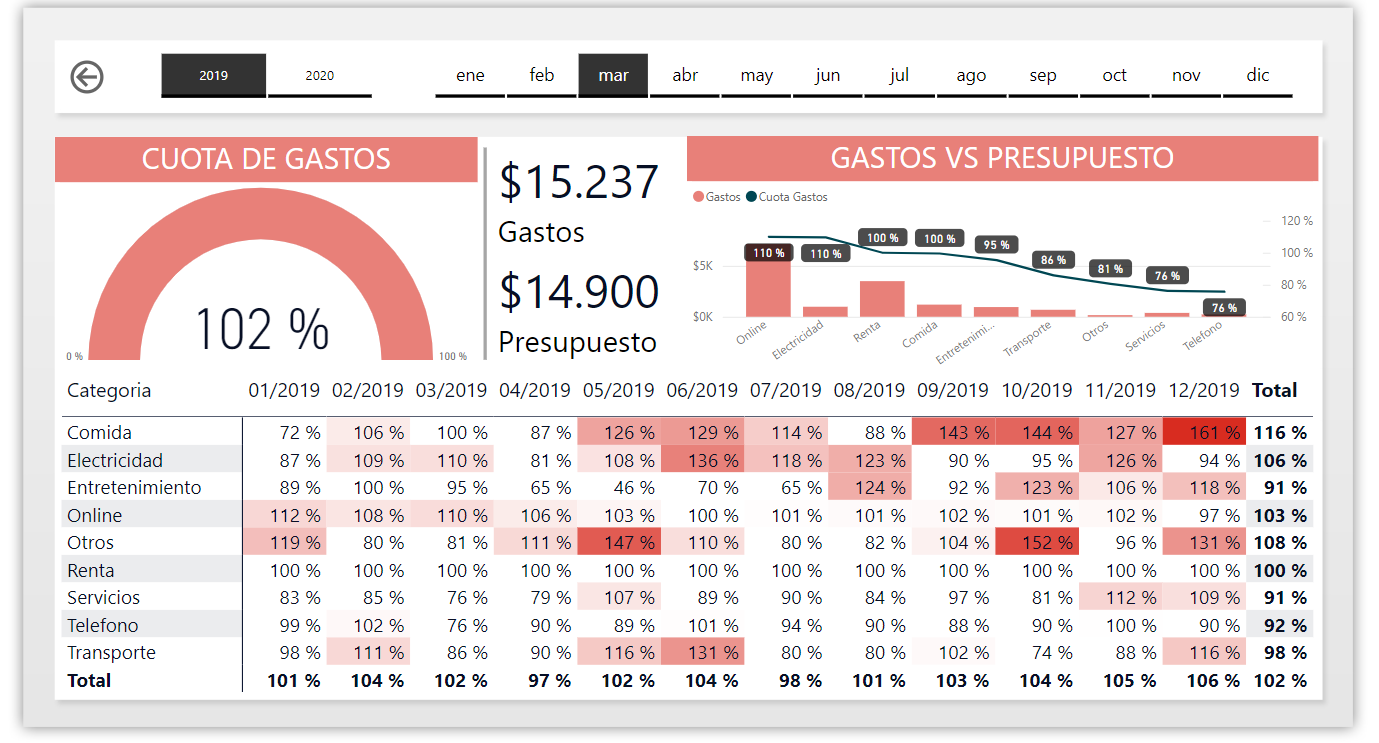

This screenshot's page, from the dashboard's own definition file:
{"tool":"powerbi","page":{"name":"Detalle Gastos","canvas":[1280,720],"ordinal":5},"visuals":[{"type":"image","box":[0,0,1280,720],"z":0},{"type":"multiRowCard","fields":{"Values":["Medidas.Gastos","Medidas.Presupuesto"]},"box":[450,153.3,181.1,213.3],"z":1000},{"type":"slicer","fields":{"Values":["Calendarios.Fecha.Variation.Date Hierarchy.Year"]},"box":[136.7,66.7,241.1,54.4],"z":2000},{"type":"slicer","fields":{"Values":["Calendarios.Abv Mes"]},"box":[385.6,66.7,828.9,54.4],"z":3000},{"type":"gauge","title":"CUOTA DE GASTOS","fields":{"Y":["Cuotas %.Cuota ingresos"]},"box":[65.6,148.9,384.4,217.8],"z":4000},{"type":"actionButton","box":[74.4,74.4,47.8,40],"z":5000},{"type":"lineStackedColumnComboChart","title":"GASTOS VS PRESUPUESTO","fields":{"Category":["Categoria.Categoria"],"Y":["Medidas.Gastos"],"Y2":["Cuotas %.Cuota Gastos"]},"box":[640,148,574,220],"z":6000},{"type":"pivotTable","fields":{"Values":["Cuotas %.Cuota Gastos"],"Rows":["Categoria.Categoria"],"Columns":["Calendarios.Mes/Año"]},"box":[66,360,1148,300],"z":7000}]}

Visuals, with their boxes on the page's 1280x720 design canvas (x1, y1, x2, y2). These are canvas units, not pixel positions in the 1379x743 screenshot, which may show the page scaled, cropped or inside an application window:
image: bbox=(0, 0, 1280, 720)
multiRowCard - Medidas.Gastos x Medidas.Presupuesto: bbox=(450, 153, 631, 367)
slicer - Calendarios.Fecha.Variation.Date Hierarchy.Year: bbox=(137, 67, 378, 121)
slicer - Calendarios.Abv Mes: bbox=(386, 67, 1214, 121)
"CUOTA DE GASTOS" gauge: bbox=(66, 149, 450, 367)
actionButton: bbox=(74, 74, 122, 114)
"GASTOS VS PRESUPUESTO" lineStackedColumnComboChart: bbox=(640, 148, 1214, 368)
pivotTable - Cuotas %.Cuota Gastos x Categoria.Categoria: bbox=(66, 360, 1214, 660)
